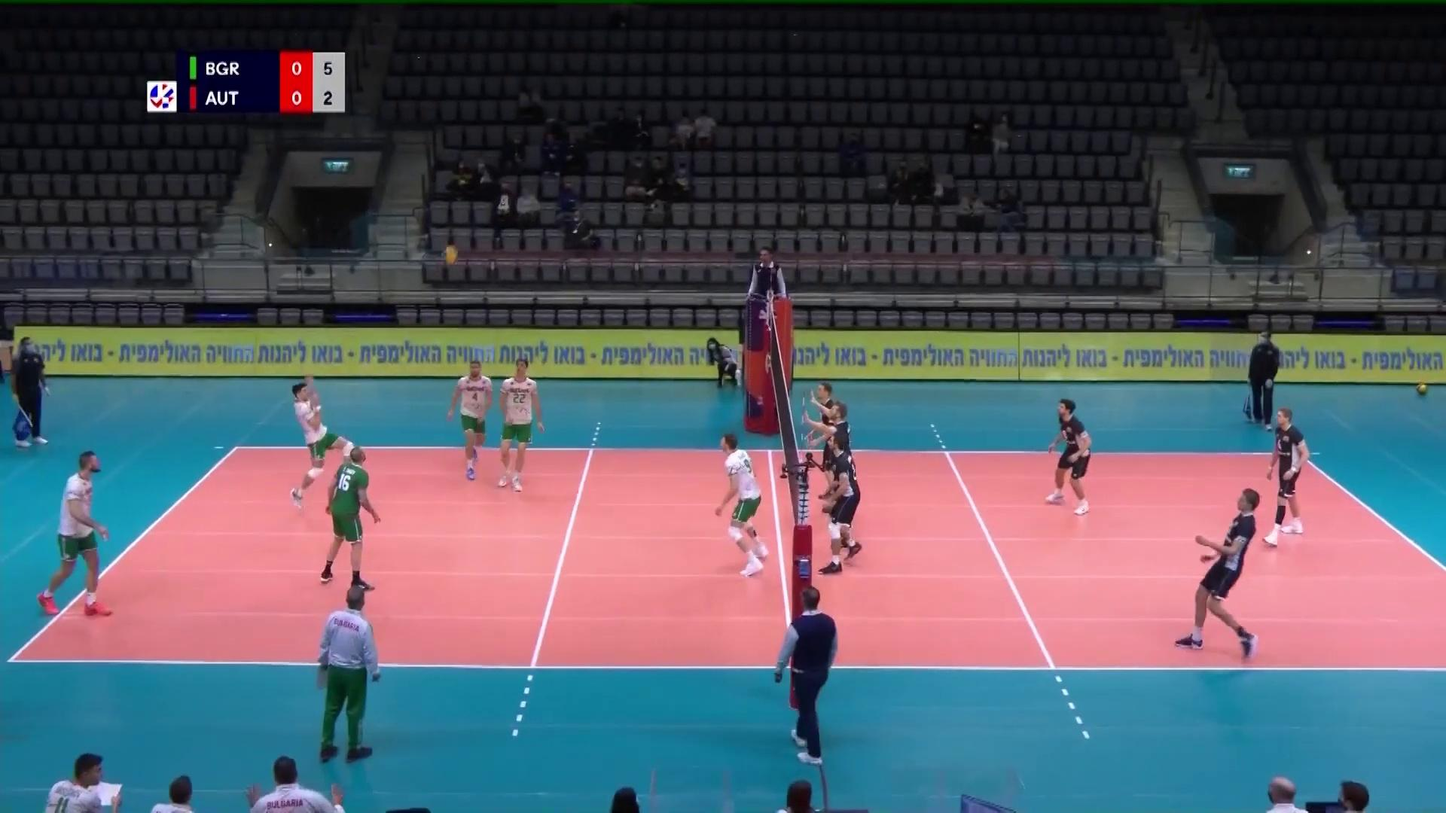ball: (444, 246, 457, 264)
